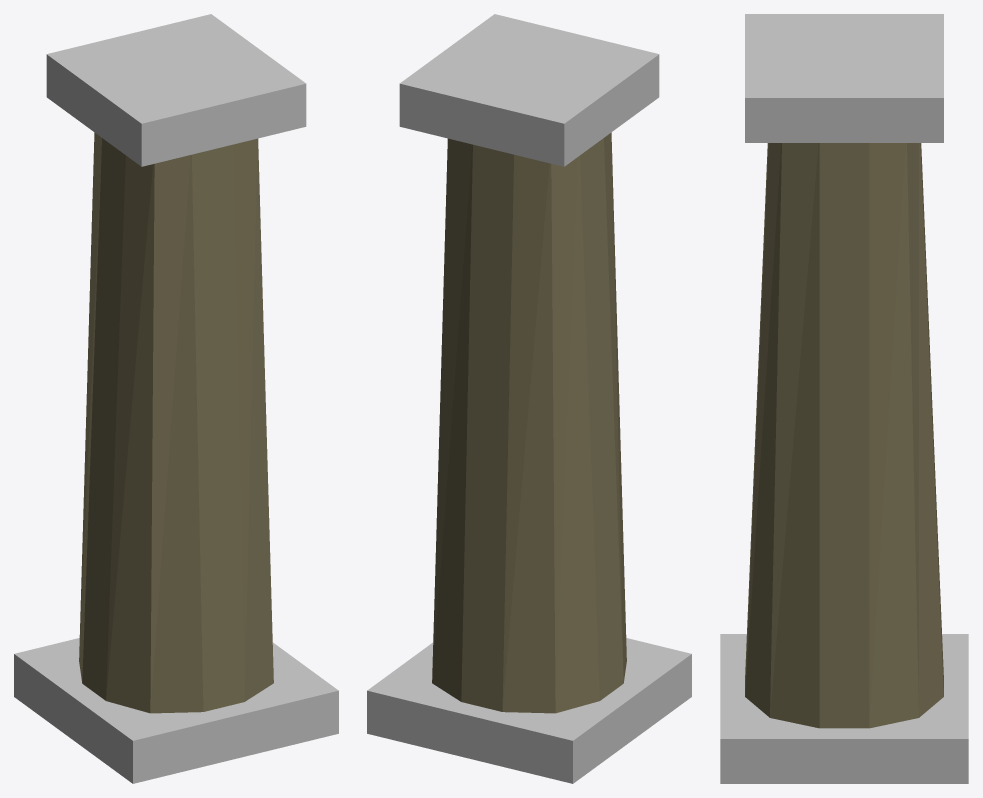
File: model_loc_1859_8.obj
3 views of the same model, side by side, from view 1: azimuth 30°, elevation 25°; view 2: azimuth 150°, elevation 25°; view 3: azimuth 270°, elevation 25° (orthographic). The views are drawn at different scales.
Visible parts, largest first — view 1: 900; view 2: 900; view 3: 900.
Boxes of the visible parts, bbox=[...] form: 900: bbox=[14, 14, 338, 783]; 900: bbox=[367, 14, 691, 783]; 900: bbox=[720, 14, 968, 783].
Size of the model in its own units: 80 by 240 by 80.
